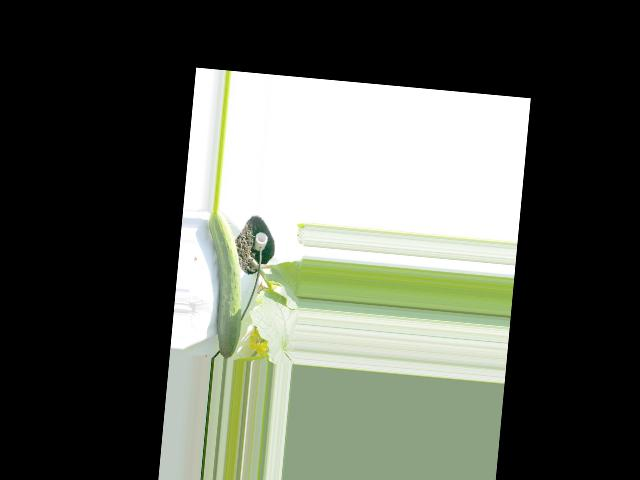cucumber: (196, 208, 250, 359)
